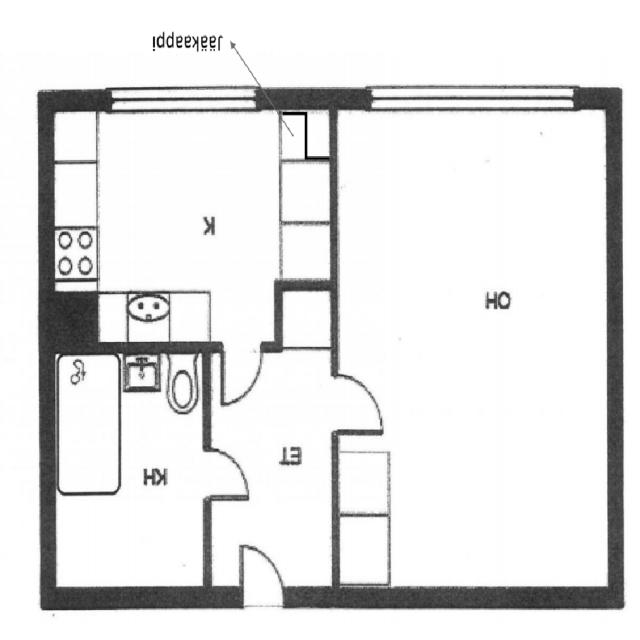door: (328, 363, 390, 435), (234, 539, 292, 609), (215, 340, 266, 410), (201, 440, 254, 504)
window: (371, 86, 579, 113), (110, 85, 262, 112)
zone: (340, 110, 617, 593), (51, 106, 342, 336), (49, 348, 208, 598), (212, 344, 339, 602)
